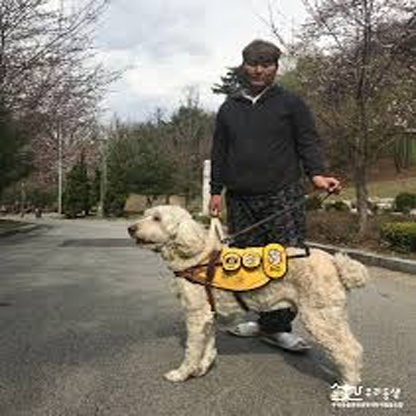guide-dog: (119, 199, 373, 399)
